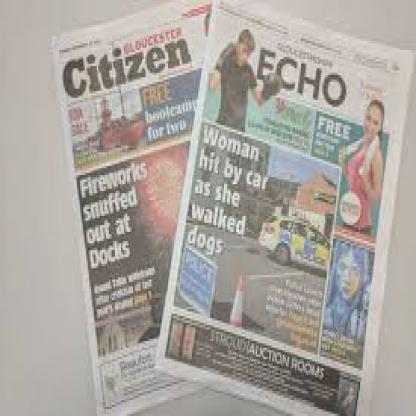paper: (151, 0, 413, 414), (50, 2, 219, 414)
